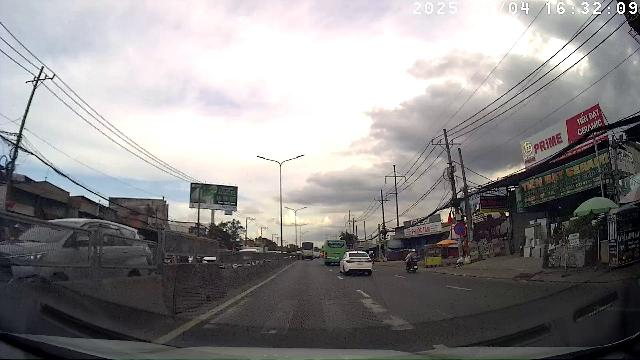130-cam-dung-va-do-xe: (454, 223, 466, 235)
